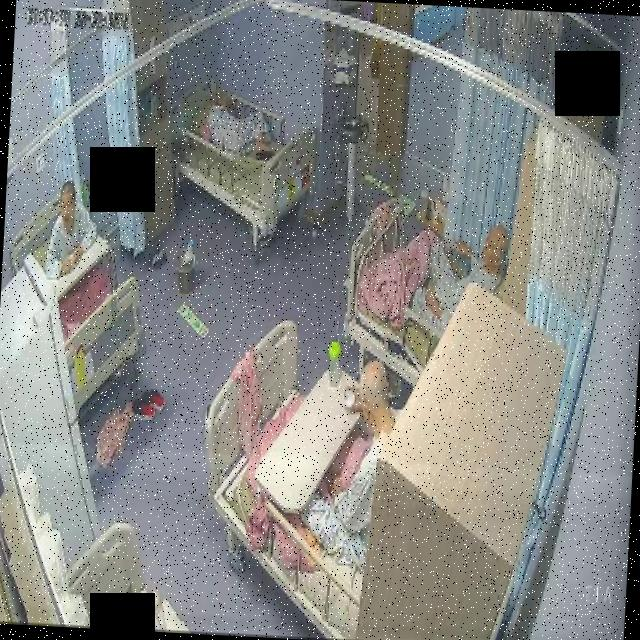bed: (196, 321, 407, 640), (3, 194, 153, 416), (344, 202, 484, 392), (167, 74, 317, 240)
lie: (197, 88, 278, 158)
patient: (298, 348, 402, 568), (421, 222, 508, 344), (44, 172, 99, 282), (197, 89, 277, 160)
sit: (297, 349, 404, 569), (378, 220, 508, 342), (44, 174, 98, 282)
